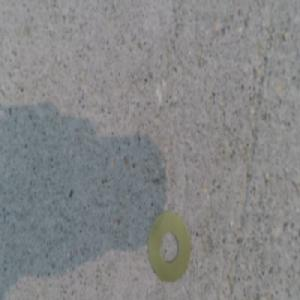Washer: (148, 211, 190, 281)
